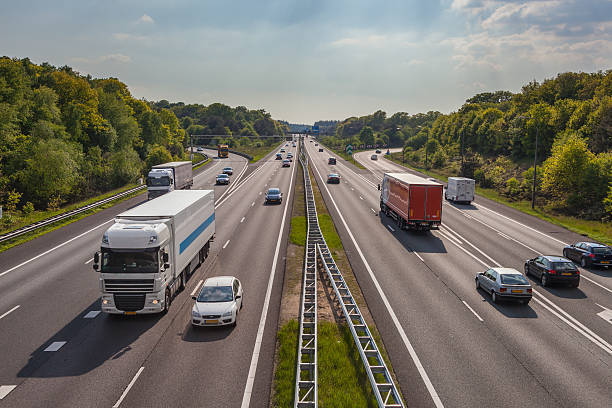car: (193, 276, 240, 328), (475, 268, 531, 305), (526, 255, 577, 292), (563, 240, 607, 267), (265, 187, 282, 203), (216, 174, 230, 185), (327, 174, 341, 185), (223, 167, 233, 176), (282, 160, 291, 168), (328, 157, 336, 166)
truck: (101, 217, 175, 312), (379, 172, 436, 227), (147, 166, 182, 197), (445, 176, 475, 206), (217, 144, 229, 158)
